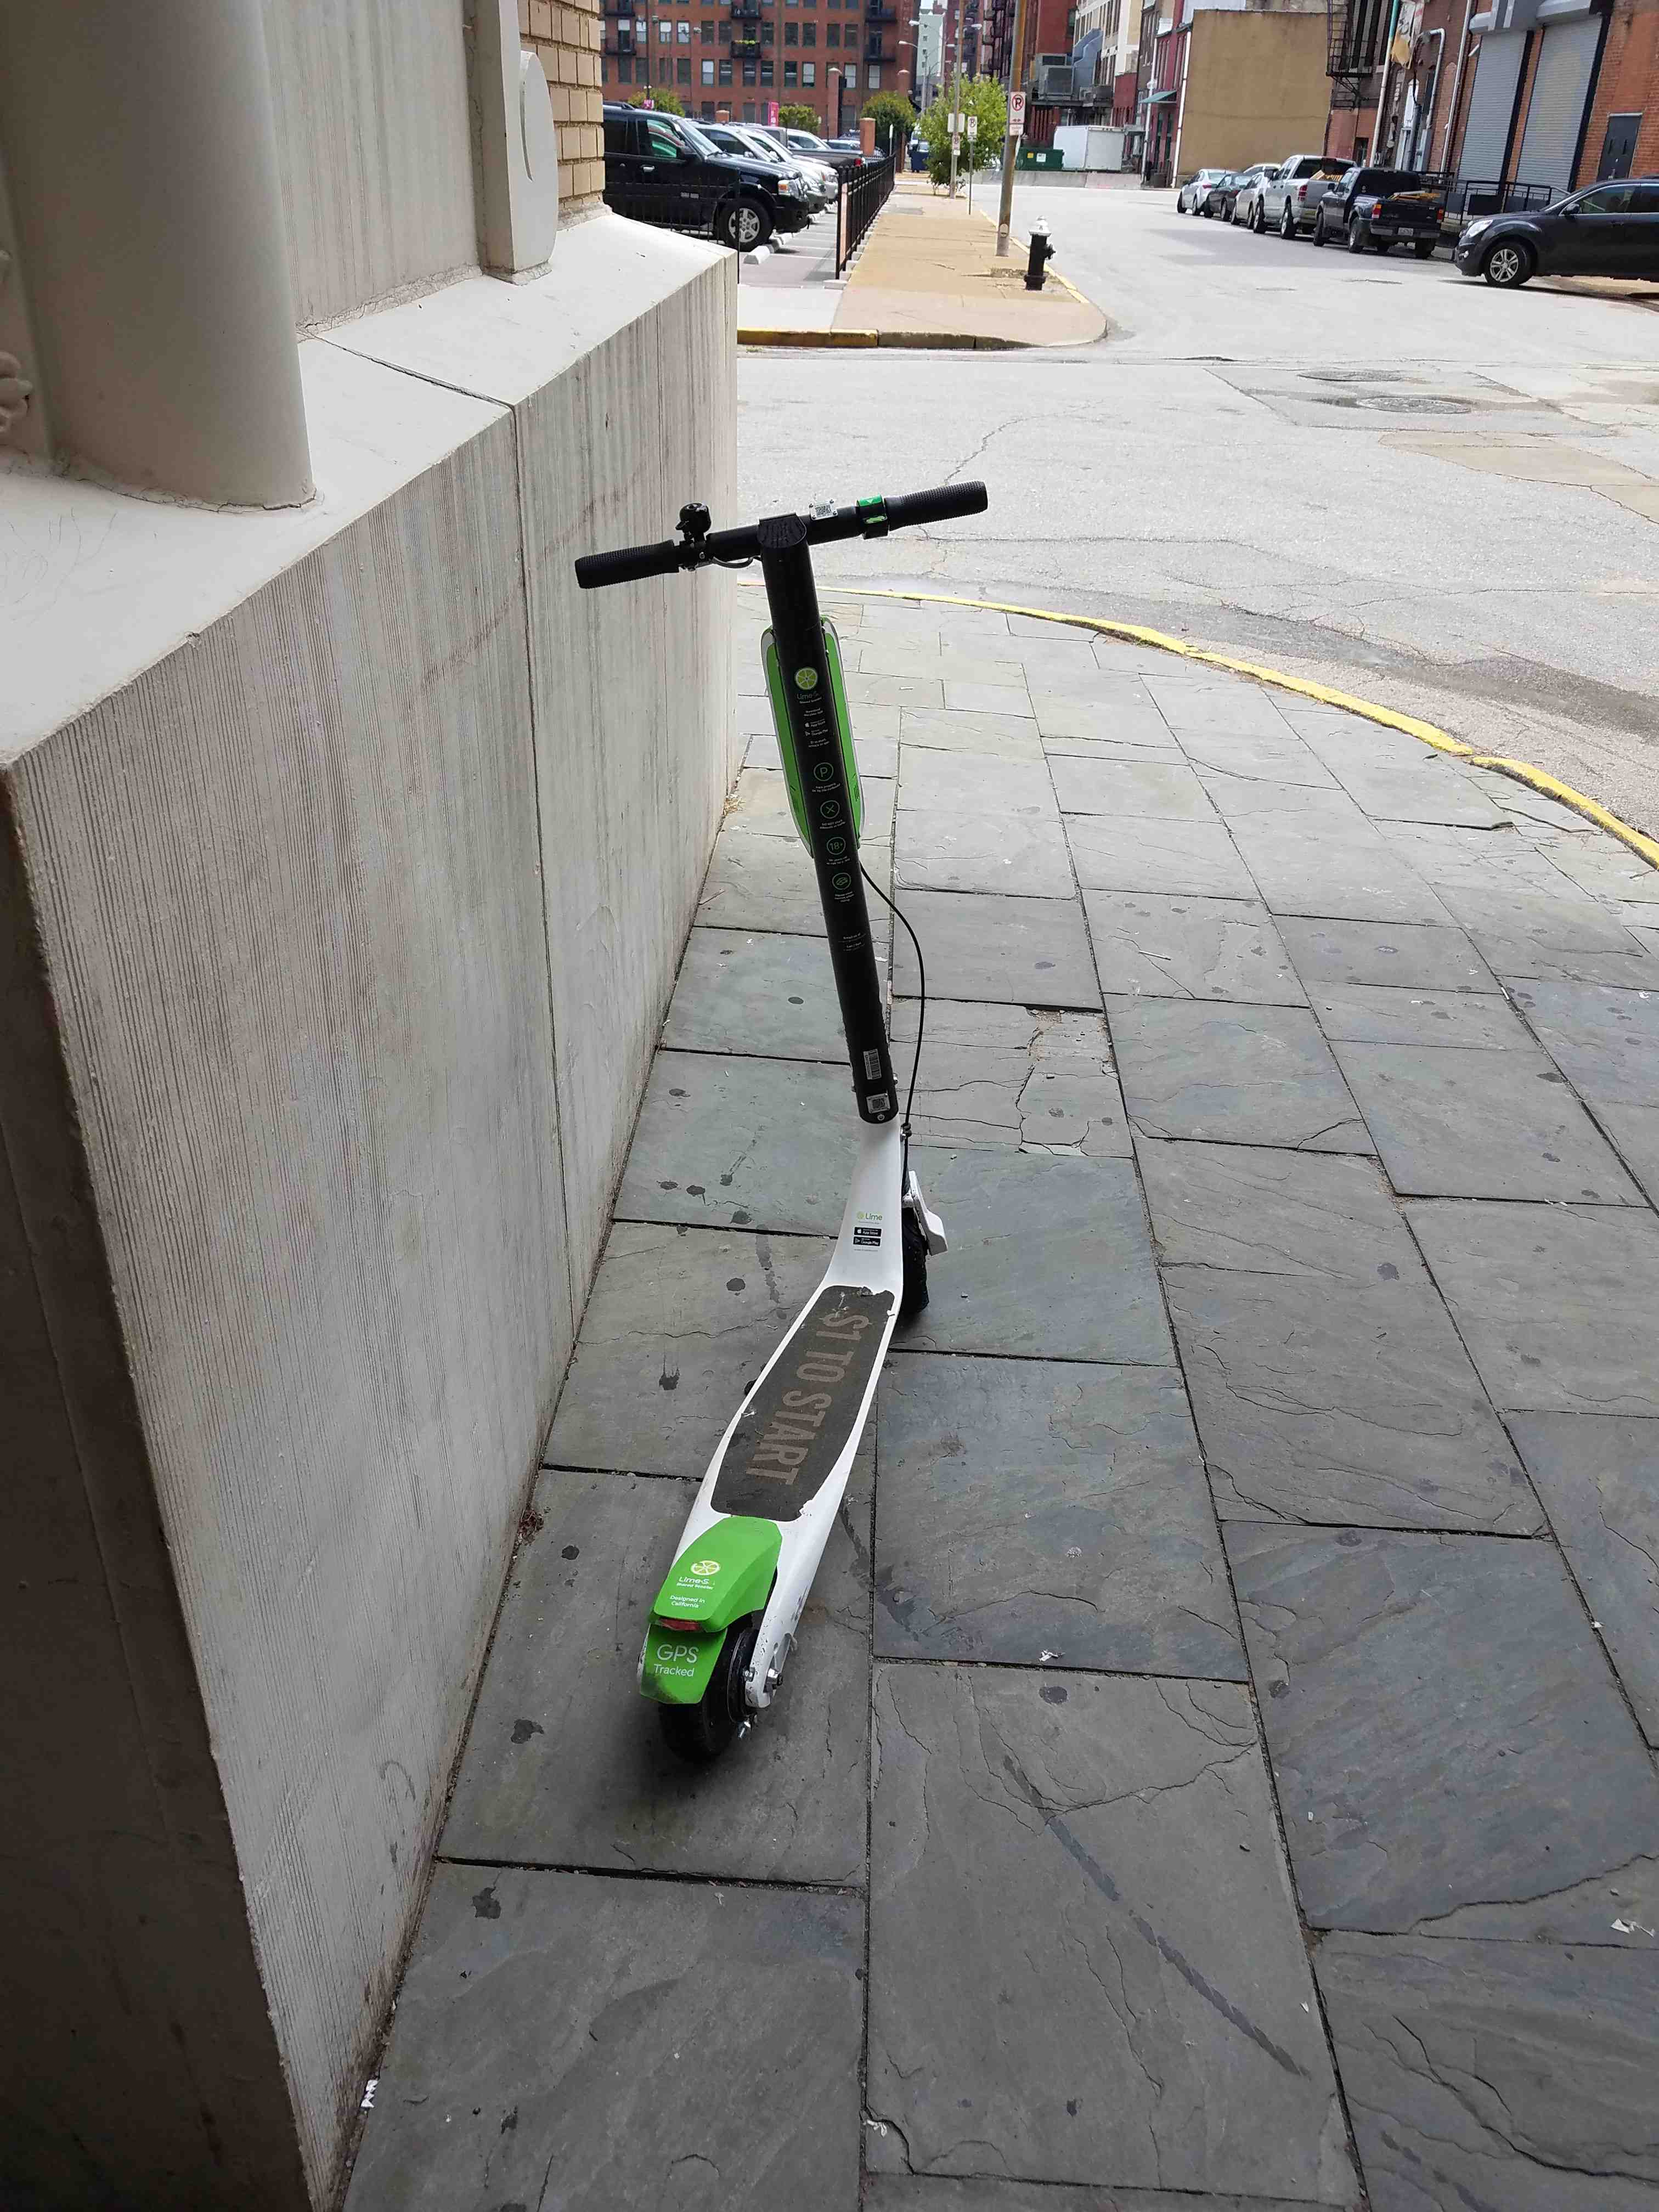scooter: (542, 449, 1019, 1799)
